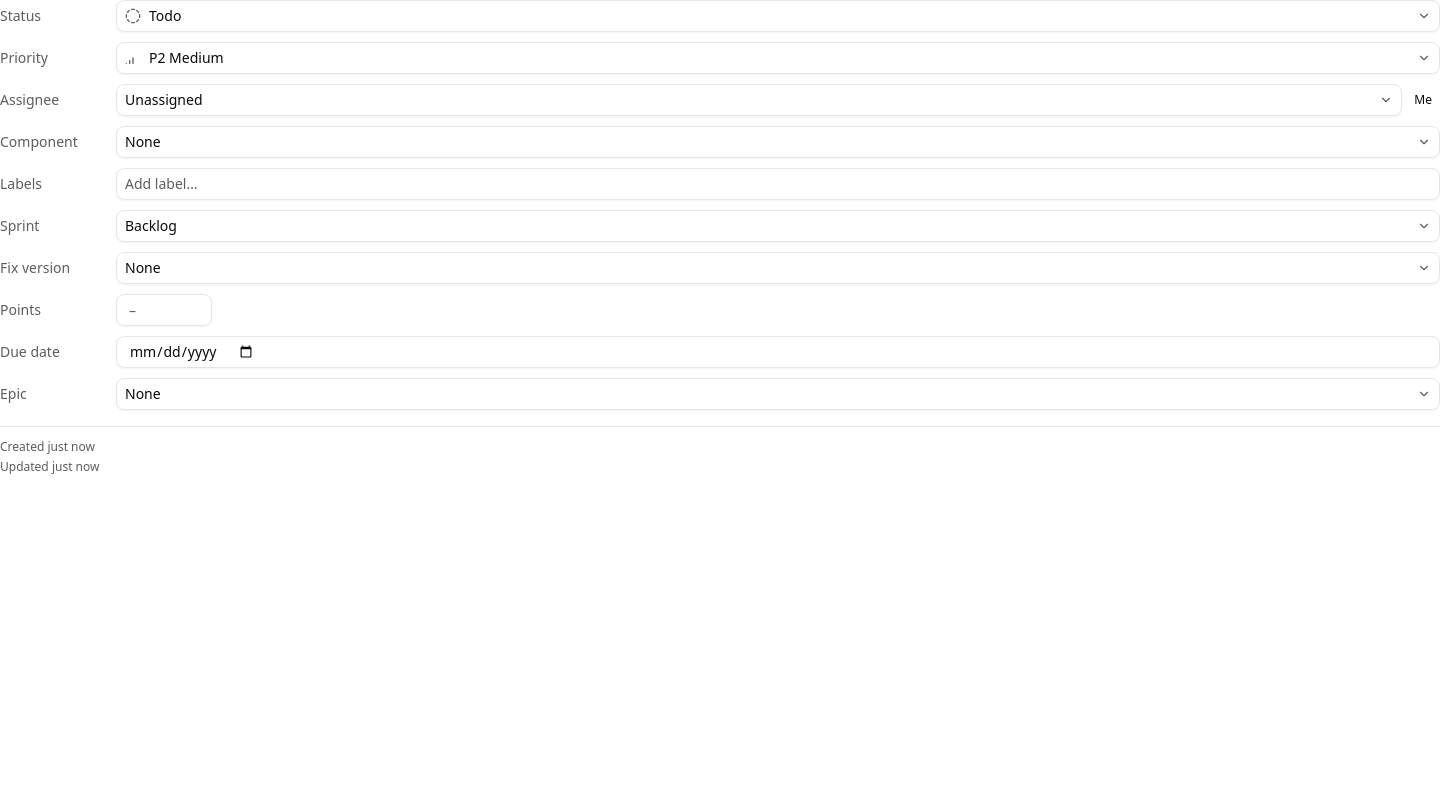
IssueFields side panel (ISS-5) with our pickers › saves a picked status at once and shows it optimistically
Click the dropdown named "Status" at (165, 16), box left=116, top=0, right=1439, bottom=32
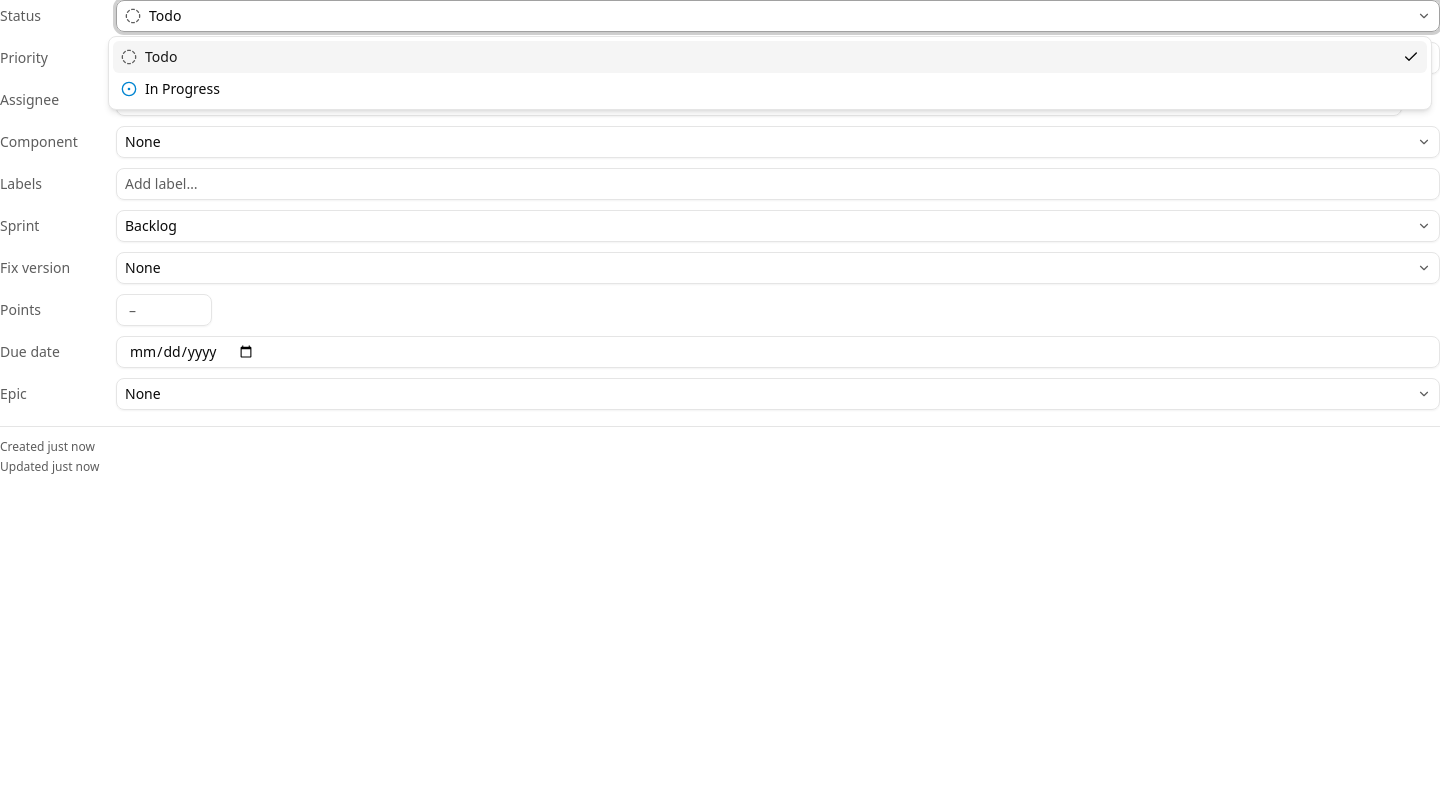
Click the option "In Progress" at (170, 88), box left=121, top=79, right=220, bottom=98
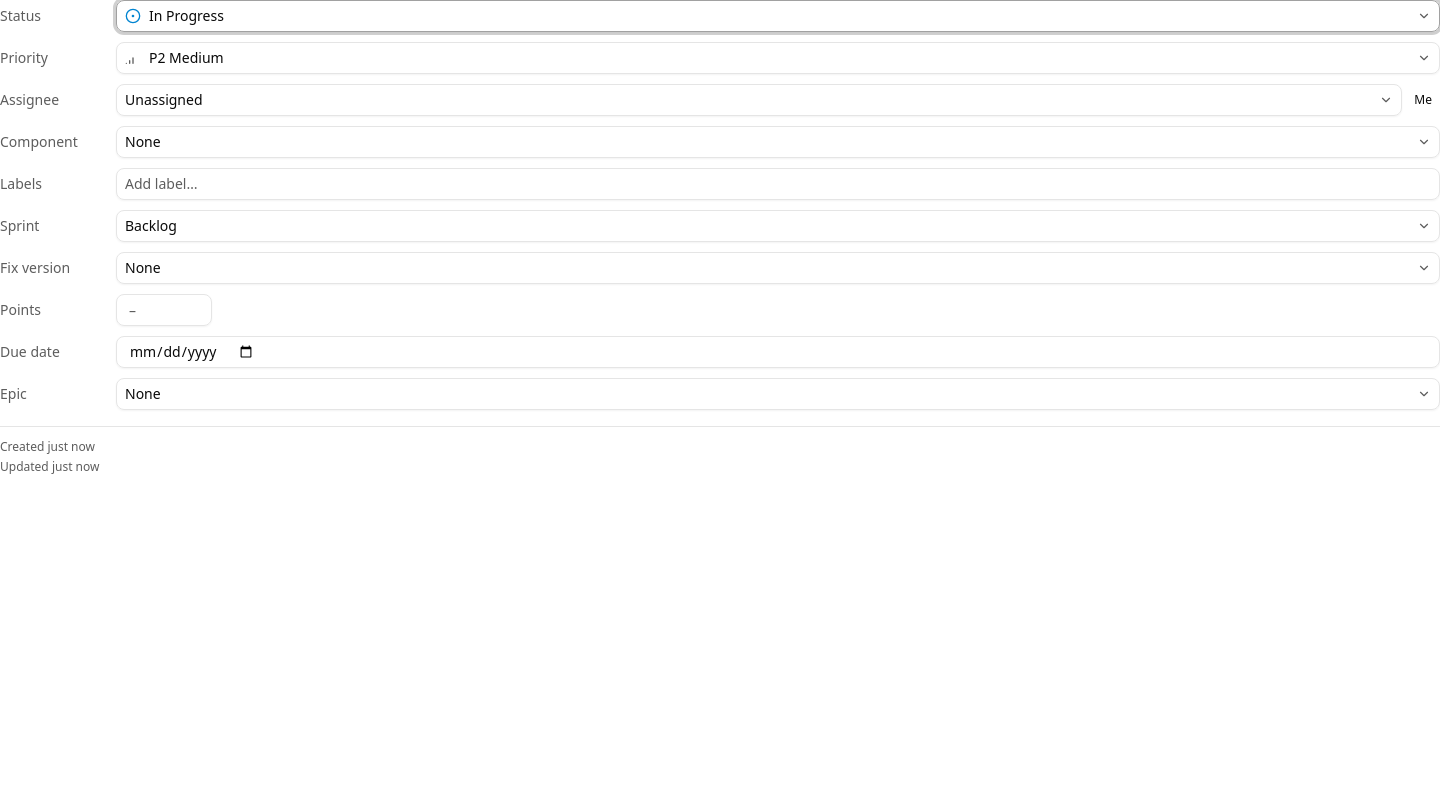
Expected: the dropdown named "Status" reads "In Progress", left=116, top=0, right=1439, bottom=32
